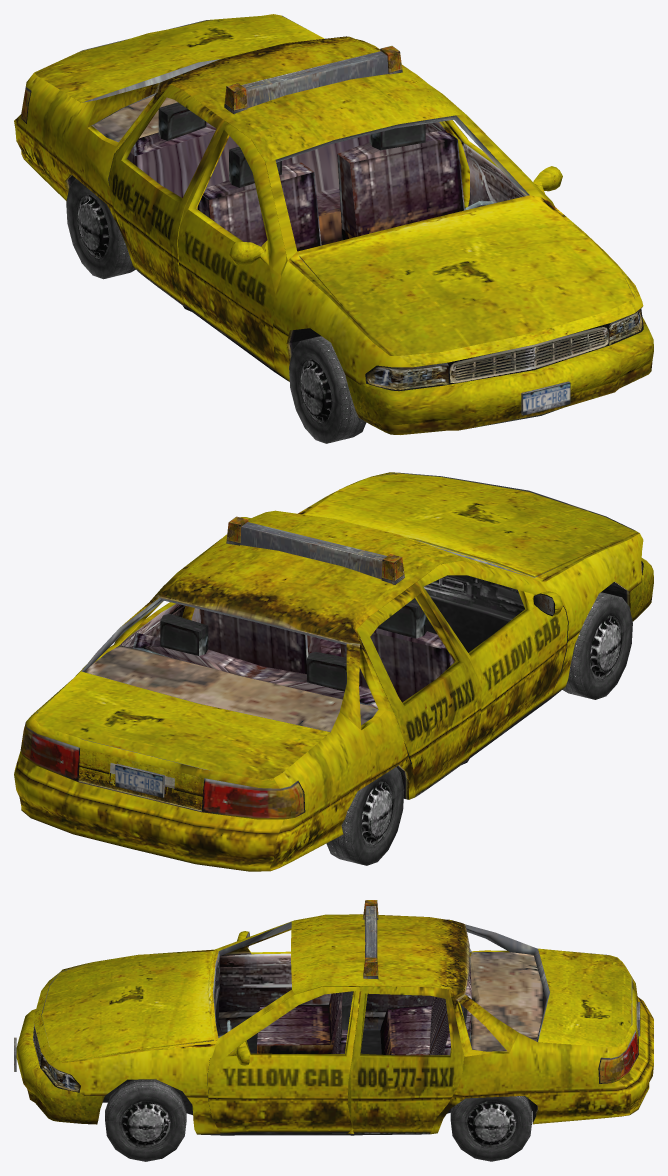
The model's file is Model_Cars_Taxicab.fbx.
3 views of the same model, one above another, from view 1: azimuth 30°, elevation 25°; view 2: azimuth 150°, elevation 25°; view 3: azimuth 270°, elevation 25° (orthographic). The views are drawn at different scales.
Parts seen in each view (by area): view 1: Car_Body, RF_Wheel, RB_Wheel; view 2: Car_Body, RF_Wheel, RB_Wheel; view 3: Car_Body, LF_Wheel, LB_Wheel.
Boxes of the visible parts, bbox=[...] form: Car_Body: bbox=[14, 14, 653, 434]; RF_Wheel: bbox=[289, 336, 366, 443]; RB_Wheel: bbox=[66, 178, 135, 279]; Car_Body: bbox=[14, 472, 653, 871]; RF_Wheel: bbox=[562, 592, 632, 699]; RB_Wheel: bbox=[326, 767, 404, 865]; Car_Body: bbox=[14, 900, 653, 1135]; LF_Wheel: bbox=[105, 1079, 186, 1161]; LB_Wheel: bbox=[450, 1096, 532, 1161].
Size of the model in its own units: 240 by 159 by 523.
